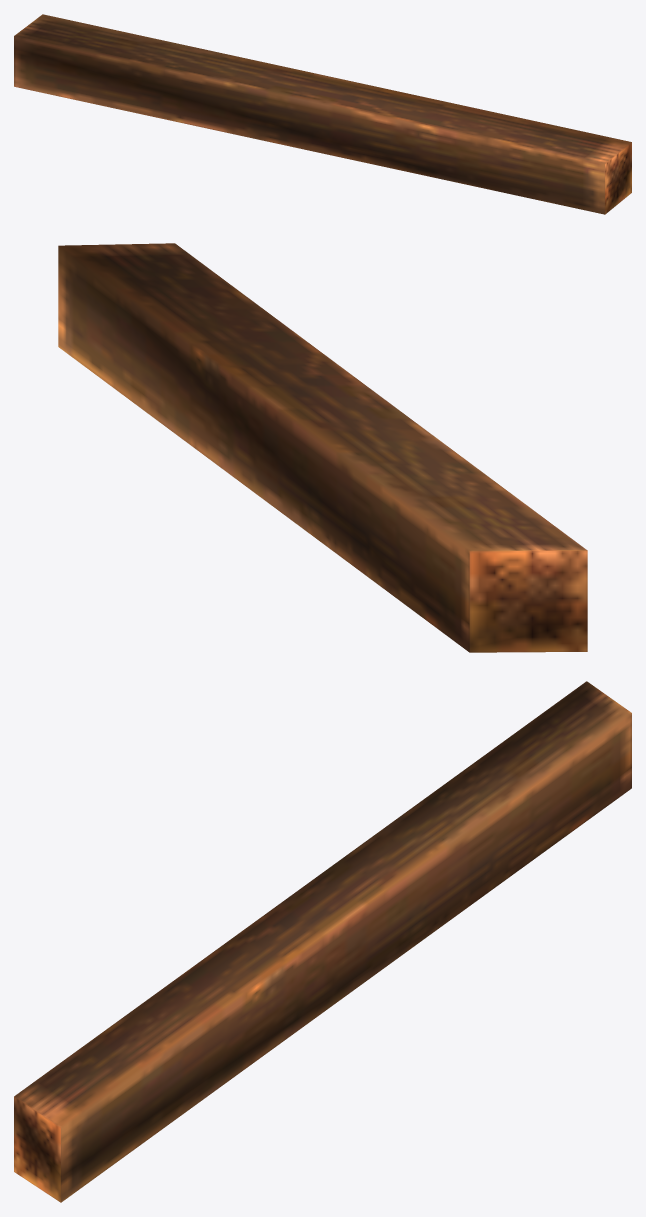
The model's file is SWORDLIGHT20_JAILBRACE11.fbx.
3 views of the same model, one above another, from view 1: azimuth 30°, elevation 25°; view 2: azimuth 150°, elevation 25°; view 3: azimuth 270°, elevation 25° (orthographic). The views are drawn at different scales.
Parts seen in each view (by area): view 1: SWORDLIGHT20_JAILBRACE11; view 2: SWORDLIGHT20_JAILBRACE11; view 3: SWORDLIGHT20_JAILBRACE11.
Part boxes in pixels (box(x1,y1,x2,y2)): SWORDLIGHT20_JAILBRACE11: box(14, 14, 631, 214); SWORDLIGHT20_JAILBRACE11: box(58, 243, 587, 652); SWORDLIGHT20_JAILBRACE11: box(14, 681, 631, 1202).
Bounding box in the file's own units: 36502 × 10675 × 29733.
1 material, 1 textured.
